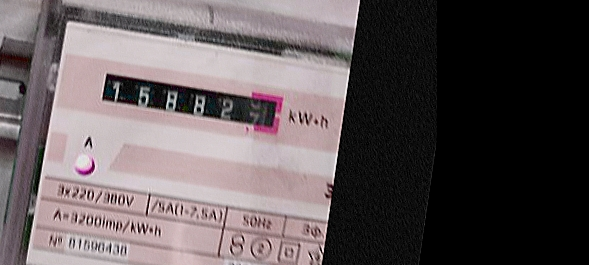1: (107, 76, 124, 100)
2: (217, 94, 236, 120)
5: (135, 80, 152, 107)
7: (246, 106, 261, 124)
8: (190, 90, 207, 116), (162, 86, 179, 111)
screen: (90, 60, 293, 143)
